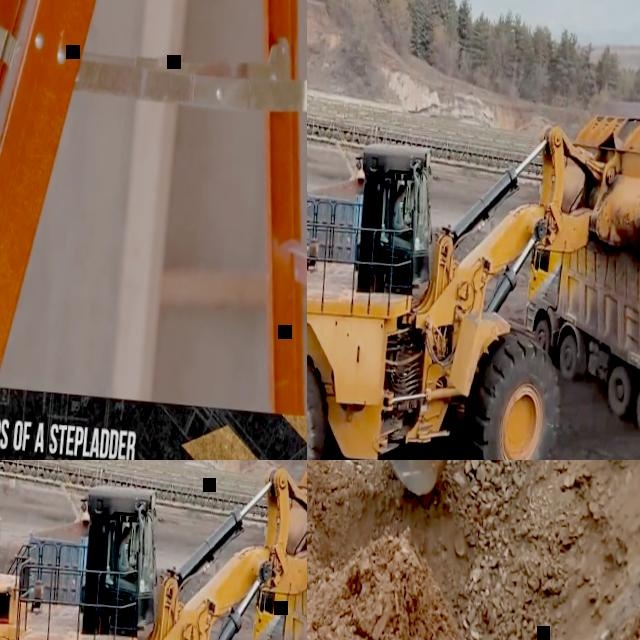NO-Hardhat: (396, 181, 405, 194), (121, 523, 130, 536)
NO-Mask: (399, 195, 405, 202), (124, 537, 130, 544)
NO-Safety Vest: (392, 200, 404, 225), (118, 542, 130, 567)
Person: (390, 180, 414, 237), (116, 522, 140, 579)
machinery: (307, 46, 640, 460), (0, 460, 307, 640), (514, 191, 640, 450), (22, 486, 150, 618), (307, 460, 527, 531), (307, 144, 424, 276)
